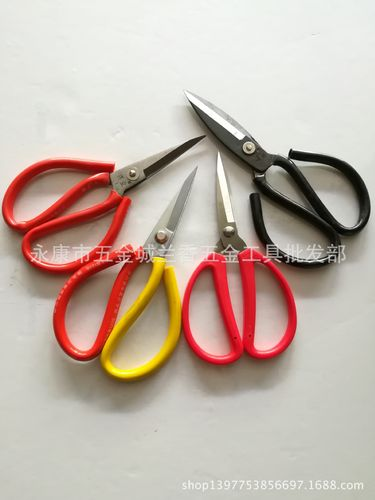scissor: (184, 90, 375, 269), (50, 172, 194, 378), (1, 136, 206, 260), (181, 150, 298, 366)
